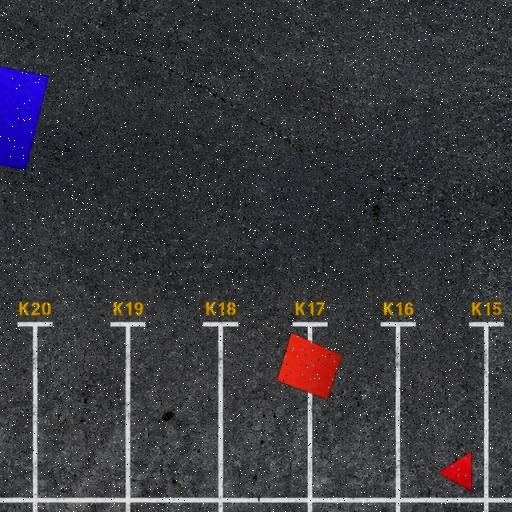RED_SQUARE: (276, 332, 343, 400)
